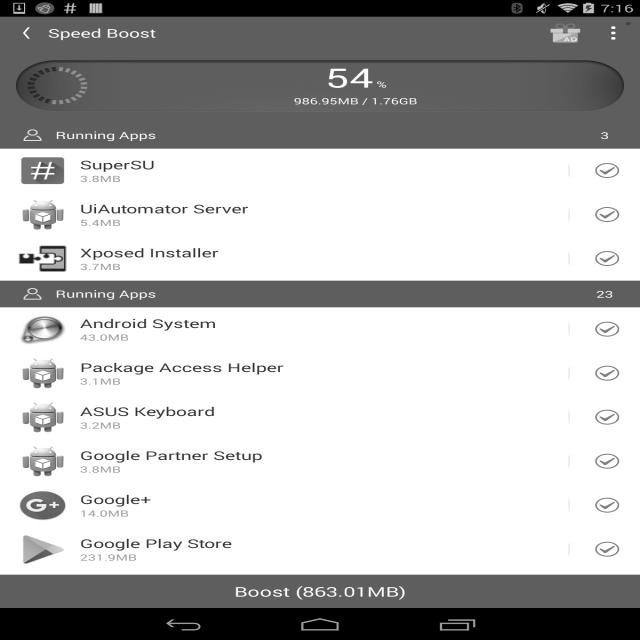Button: (0, 575, 640, 608)
CheckBox: (595, 163, 619, 178), (595, 207, 619, 222), (595, 251, 619, 266), (595, 322, 619, 336), (595, 366, 619, 380), (595, 410, 619, 424), (595, 454, 619, 468), (595, 498, 619, 512), (595, 542, 619, 556), (595, 586, 619, 600)
ImageButton: (5, 20, 48, 46)
ImageView: (21, 65, 619, 112), (27, 59, 88, 112), (16, 155, 69, 186), (16, 199, 69, 230), (16, 243, 69, 274), (16, 314, 69, 345), (16, 358, 69, 389), (16, 402, 69, 433), (16, 446, 69, 477), (16, 490, 69, 521), (16, 534, 69, 565), (16, 578, 69, 609), (550, 23, 582, 43), (22, 129, 43, 142), (22, 288, 43, 300)
TextView: (88, 59, 624, 95), (55, 128, 589, 142), (55, 287, 589, 301), (88, 95, 624, 107), (80, 359, 284, 375), (80, 447, 263, 463), (80, 200, 249, 217), (80, 535, 233, 551), (80, 244, 219, 261), (80, 315, 217, 331), (80, 579, 217, 595), (80, 403, 215, 419), (48, 25, 156, 41), (80, 156, 155, 173), (80, 491, 151, 507), (601, 20, 636, 46), (80, 552, 137, 564), (80, 332, 129, 344), (80, 508, 129, 520), (80, 172, 121, 185), (80, 419, 121, 432), (80, 216, 121, 228), (80, 260, 121, 272), (80, 376, 121, 388), (80, 464, 121, 476), (80, 596, 121, 608), (589, 129, 621, 142), (589, 288, 621, 300)
